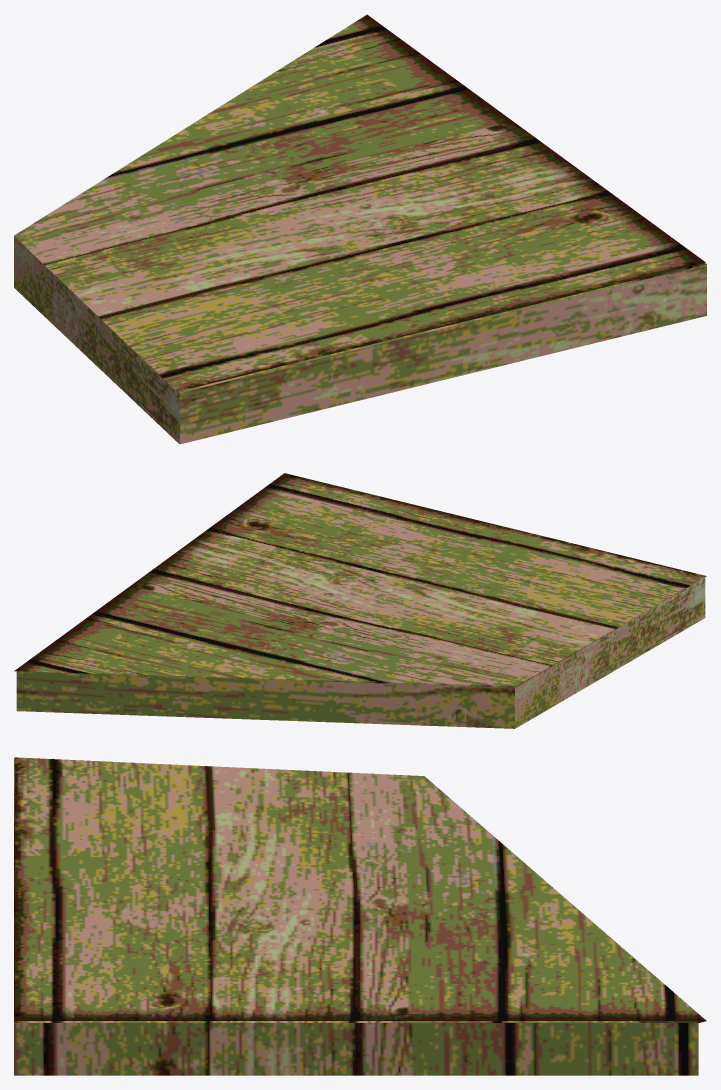
Rendered from CratePiece_5.fbx.
3 views of the same model, one above another, from view 1: azimuth 30°, elevation 25°; view 2: azimuth 150°, elevation 25°; view 3: azimuth 270°, elevation 25° (orthographic). The views are drawn at different scales.
Visible parts, largest first — view 1: Cube.006; view 2: Cube.006; view 3: Cube.006.
Part boxes in pixels (<box>): Cube.006: <box>14,14,706,444</box>; Cube.006: <box>14,473,706,728</box>; Cube.006: <box>14,757,706,1075</box>.
Bounding box in the file's own units: 42.71 × 4.1 × 47.38.
1 material, 1 textured.
